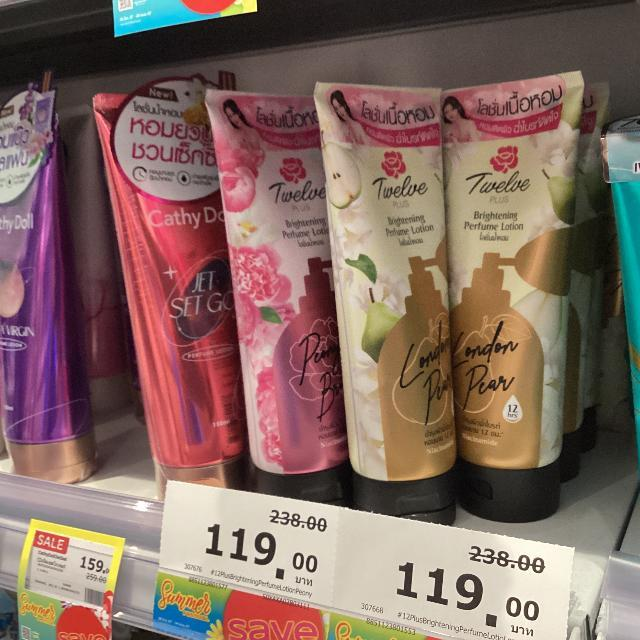Squeeze Tube: (63, 42, 634, 534)
